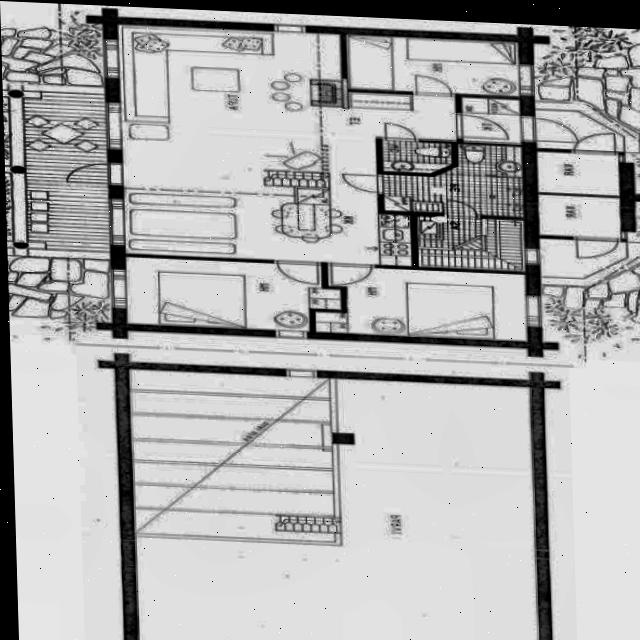room: (123, 256, 343, 333), (314, 264, 530, 341), (344, 34, 523, 96), (414, 214, 527, 271), (535, 150, 623, 195), (537, 193, 623, 238), (460, 96, 523, 143), (381, 139, 453, 174)
